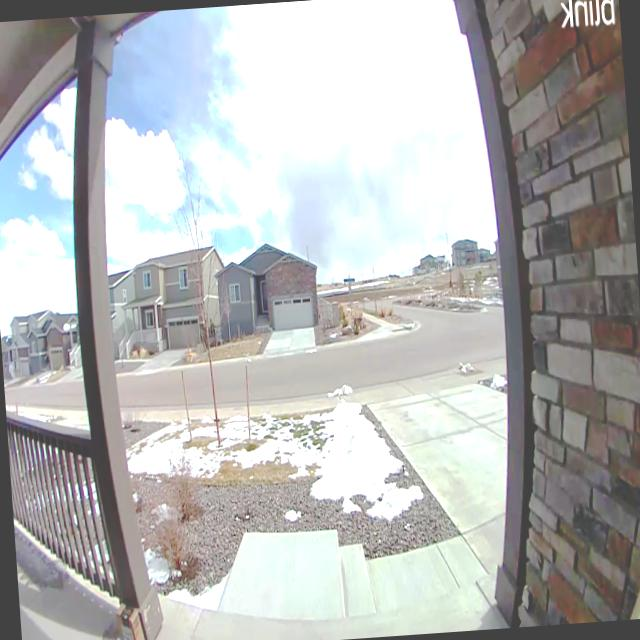Box: (110, 595, 149, 640)
